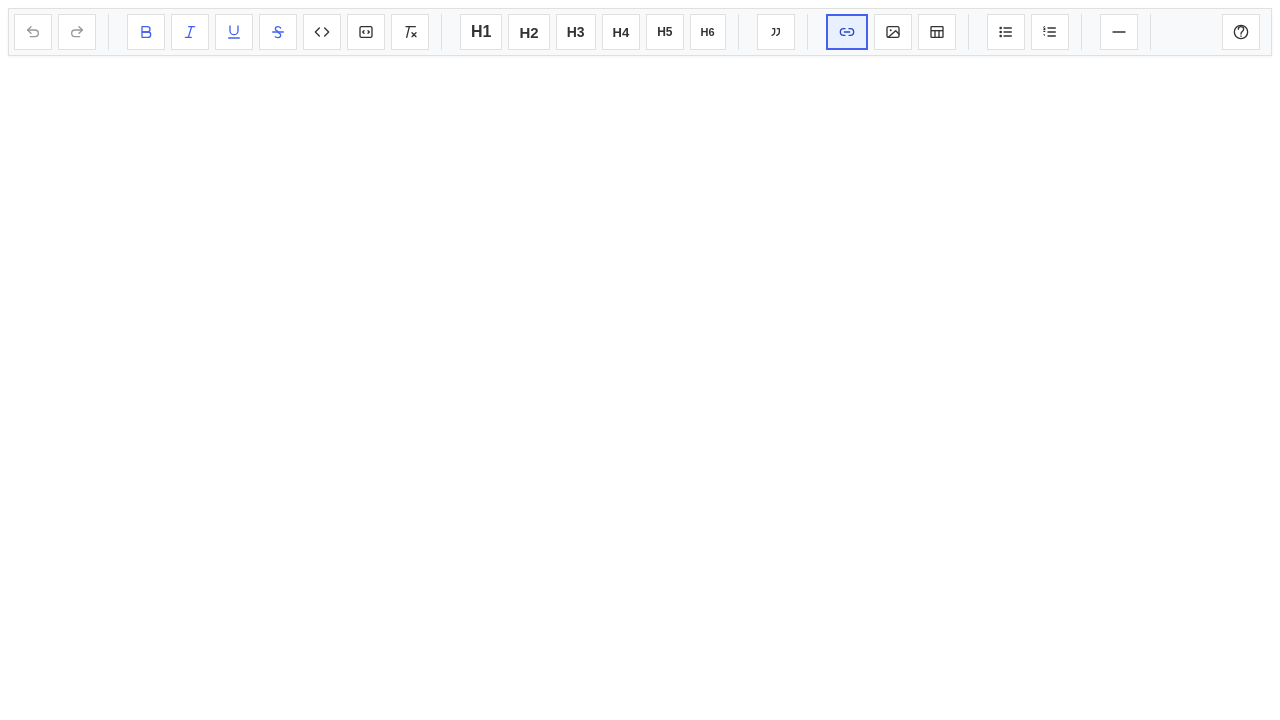
Test: ToolbarPlugin Component › removes an existing link via the Remove Link button
What coordinates should you click on to do the following:
click the button named "Edit Link"
I would click on:
 (847, 32)
Its box is [826, 14, 868, 50].
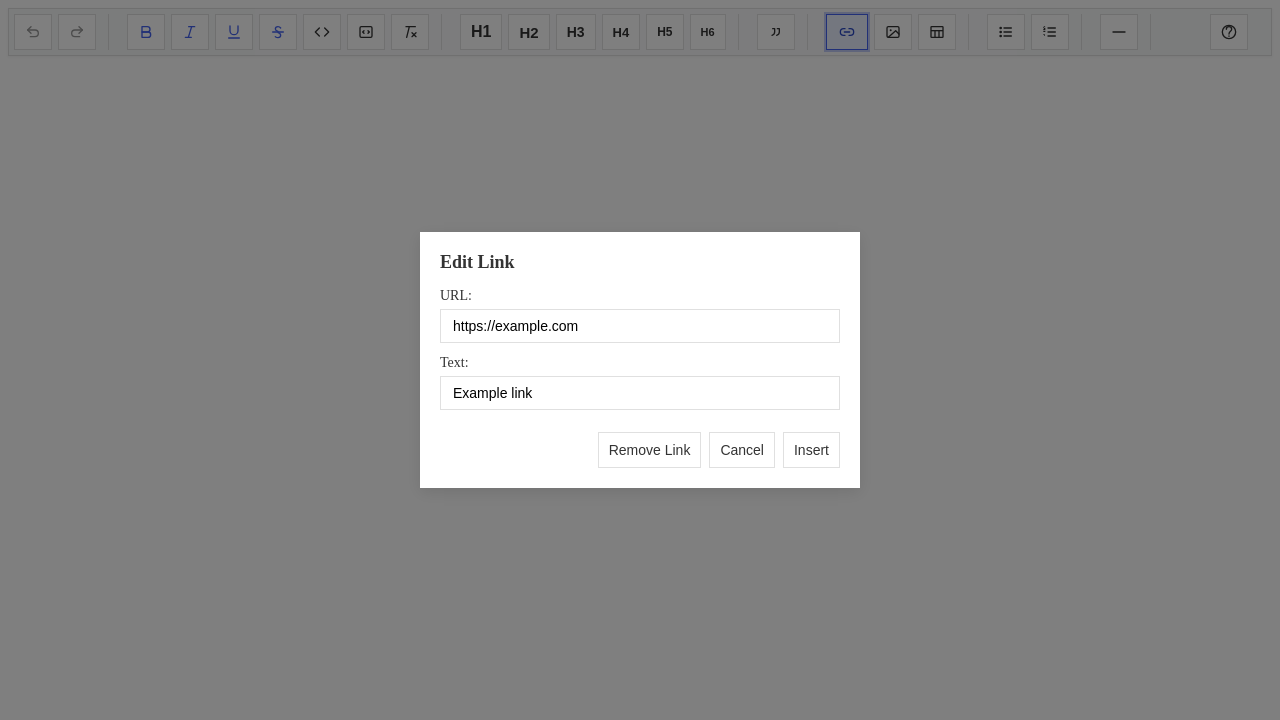
What coordinates should you click on to do the following:
click the button "Remove Link"
I would click on:
 (650, 450)
Its box is [598, 432, 701, 468].
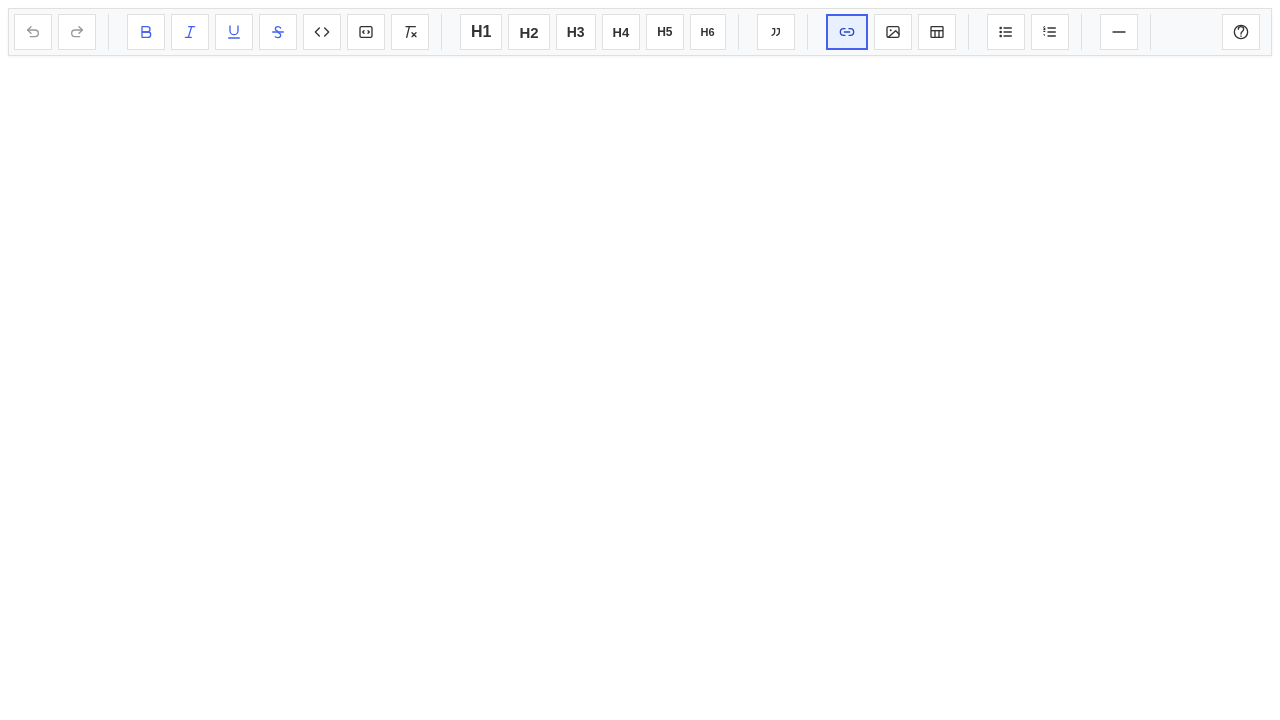
Expected: the dialog is gone
